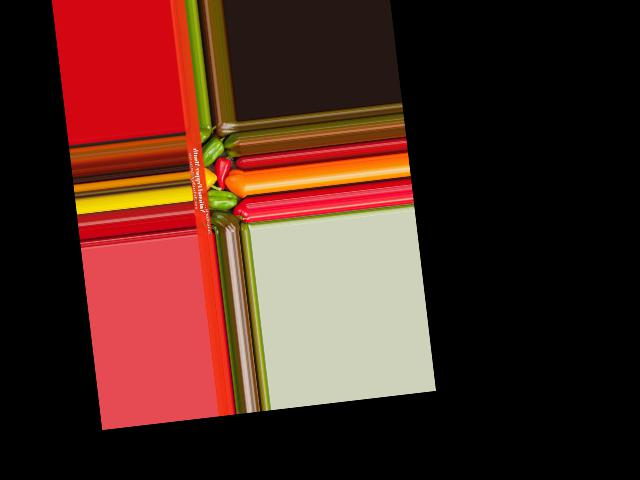bell_pepper: (209, 209, 240, 234)
